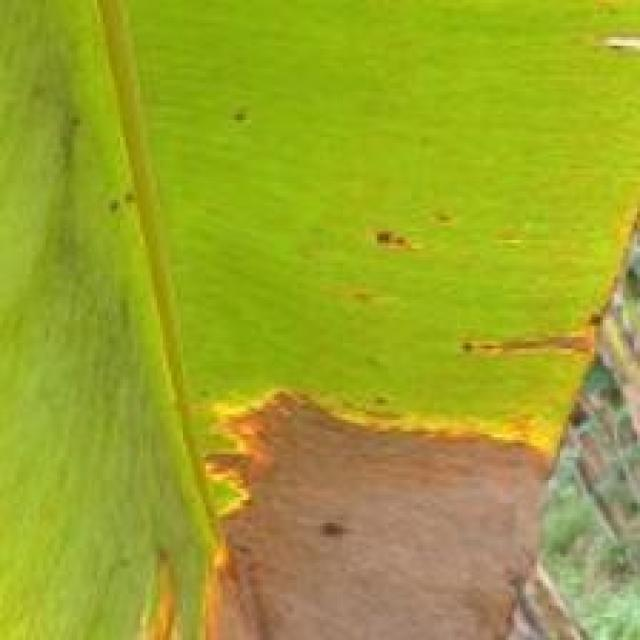Bacterial_spot: (186, 392, 579, 640), (117, 531, 192, 640), (458, 330, 602, 369), (363, 211, 428, 273), (589, 18, 640, 81), (96, 167, 139, 220), (216, 92, 258, 131)
